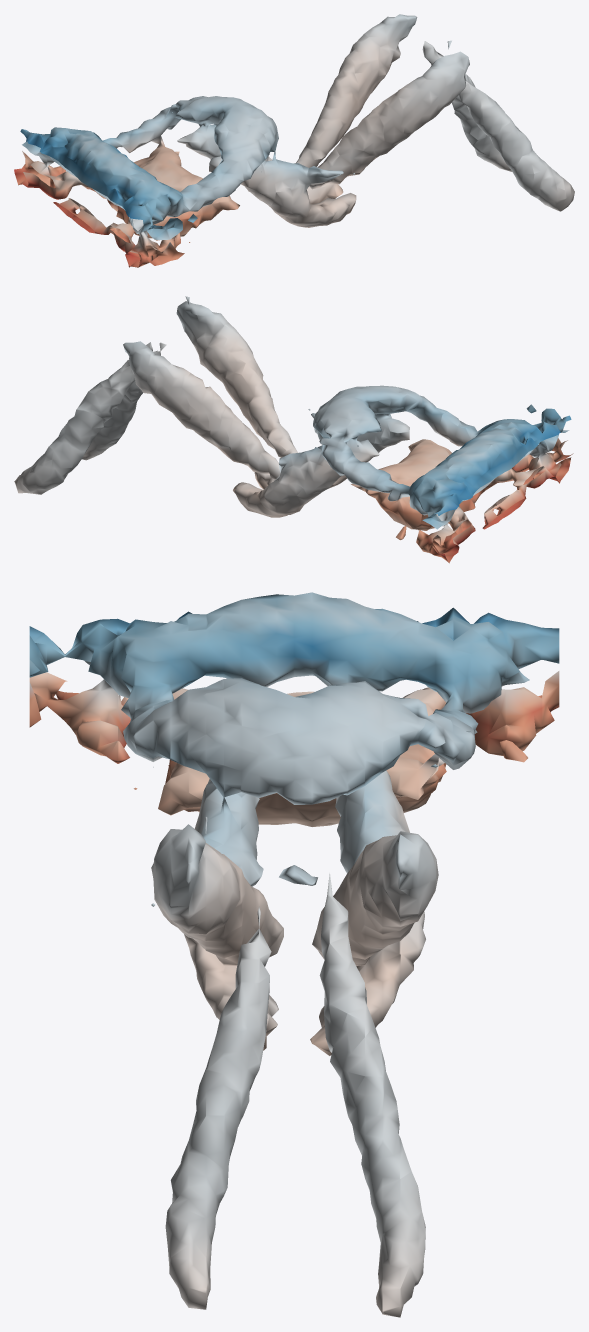
3 views of the same model, one above another, from view 1: azimuth 30°, elevation 25°; view 2: azimuth 150°, elevation 25°; view 3: azimuth 270°, elevation 25° (orthographic). The views are drawn at different scales.
Bounding box in the file's own units: 5.19 × 2.01 × 2.5.
